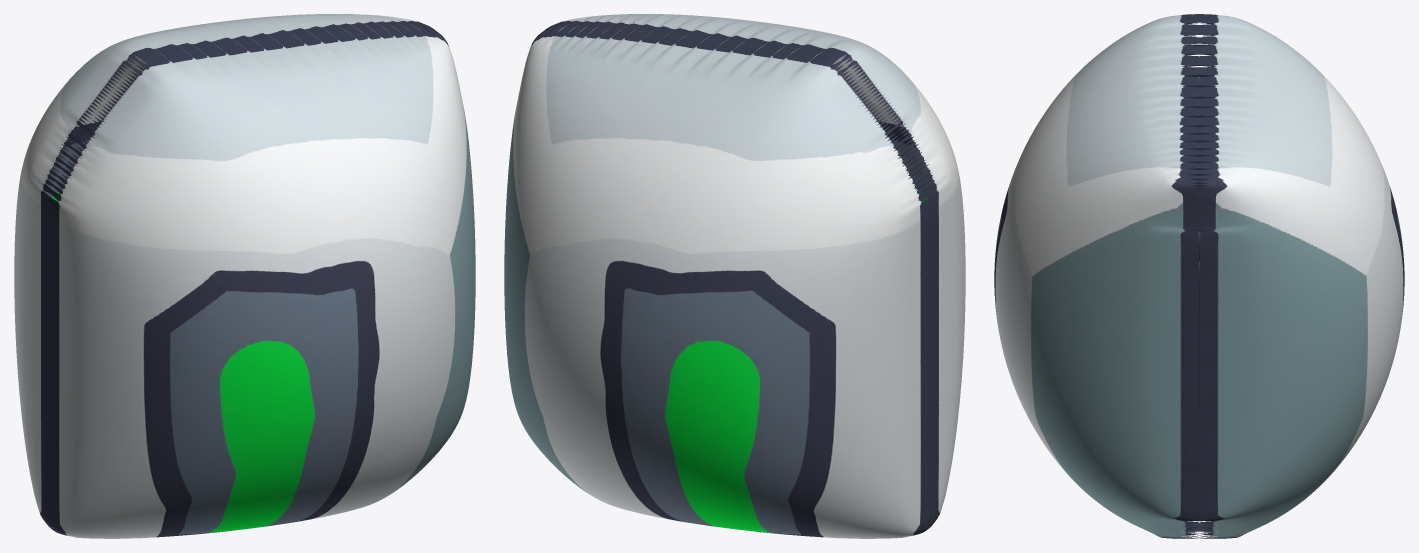
The model's file is green_terminal.glb.
3 renders of one model, left to right at view 1: azimuth 30°, elevation 25°; view 2: azimuth 150°, elevation 25°; view 3: azimuth 270°, elevation 25°, orthographic. The views are drawn at different scales.
Visible parts, largest first — view 1: green_terminal; view 2: green_terminal; view 3: green_terminal.
Part boxes in pixels (<box>): green_terminal: <box>14,14,475,538</box>; green_terminal: <box>504,14,965,538</box>; green_terminal: <box>994,14,1404,538</box>.
Size of the model in its own units: 0.9871 by 1.16 by 0.9863.
1 material, 1 textured.
